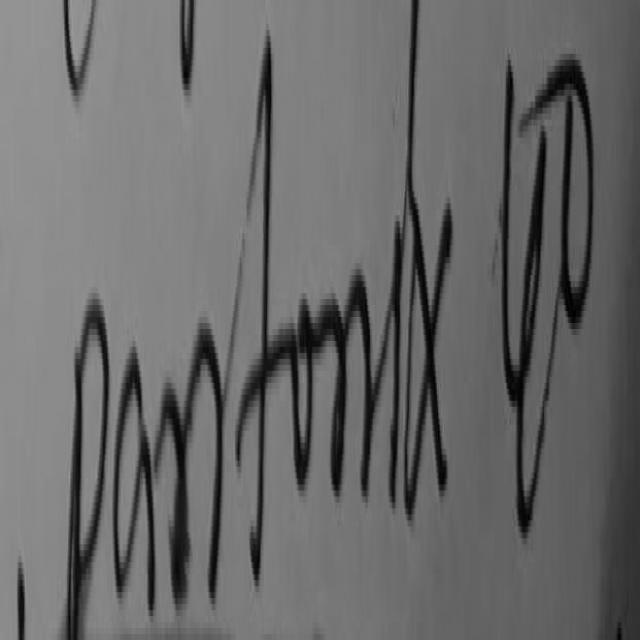0: (521, 60, 595, 323)
4: (504, 60, 547, 529)
a: (115, 347, 155, 607)
i: (390, 215, 403, 499)
n: (155, 323, 223, 598), (311, 269, 374, 490)
o: (292, 293, 313, 481)
p: (67, 299, 108, 631)
t: (236, 30, 291, 577)
x: (405, 176, 453, 511)
